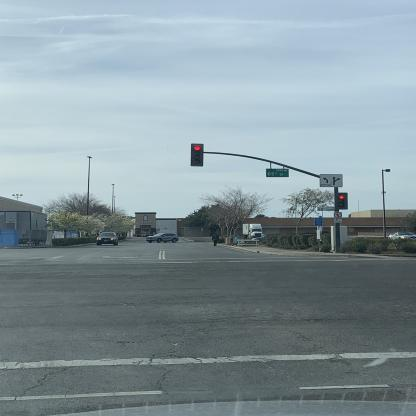red: (192, 144, 204, 166), (337, 193, 347, 209)
